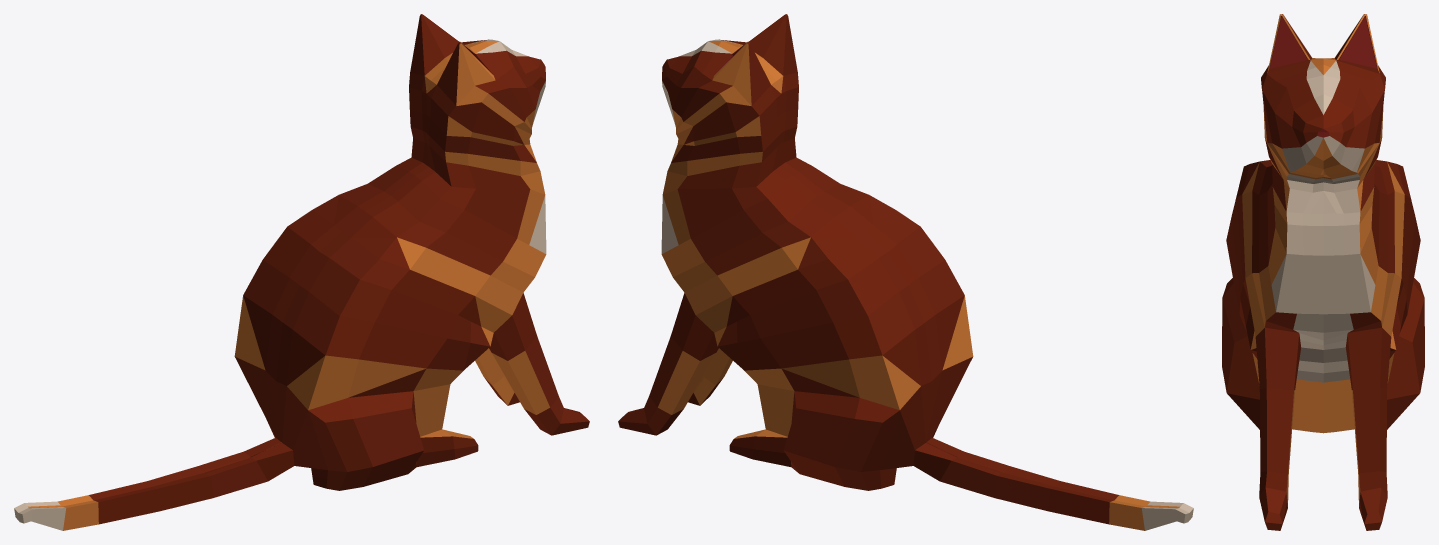
The model's file is Cat.fbx.
3 renders of one model, left to right at view 1: azimuth 30°, elevation 25°; view 2: azimuth 150°, elevation 25°; view 3: azimuth 270°, elevation 25°, orthographic. The views are drawn at different scales.
Visible parts, largest first — view 1: Plane_3, Plane, Plane_2; view 2: Plane_3, Plane, Plane_2; view 3: Plane_3, Plane_2, Plane, Plane_1.
Part boxes in pixels (x1=…): Plane_3: x1=89, y1=14, x2=589, y2=524; Plane: x1=28, y1=41, x2=549, y2=530; Plane_2: x1=14, y1=39, x2=546, y2=530; Plane_3: x1=618, y1=14, x2=1118, y2=524; Plane: x1=658, y1=41, x2=1179, y2=530; Plane_2: x1=661, y1=39, x2=1193, y2=530; Plane_3: x1=1222, y1=14, x2=1424, y2=530; Plane_2: x1=1271, y1=60, x2=1375, y2=382; Plane: x1=1242, y1=14, x2=1404, y2=506; Plane_1: x1=1269, y1=16, x2=1377, y2=137.
Bounding box in the file's own units: 5.28 × 3.8 × 1.55.
